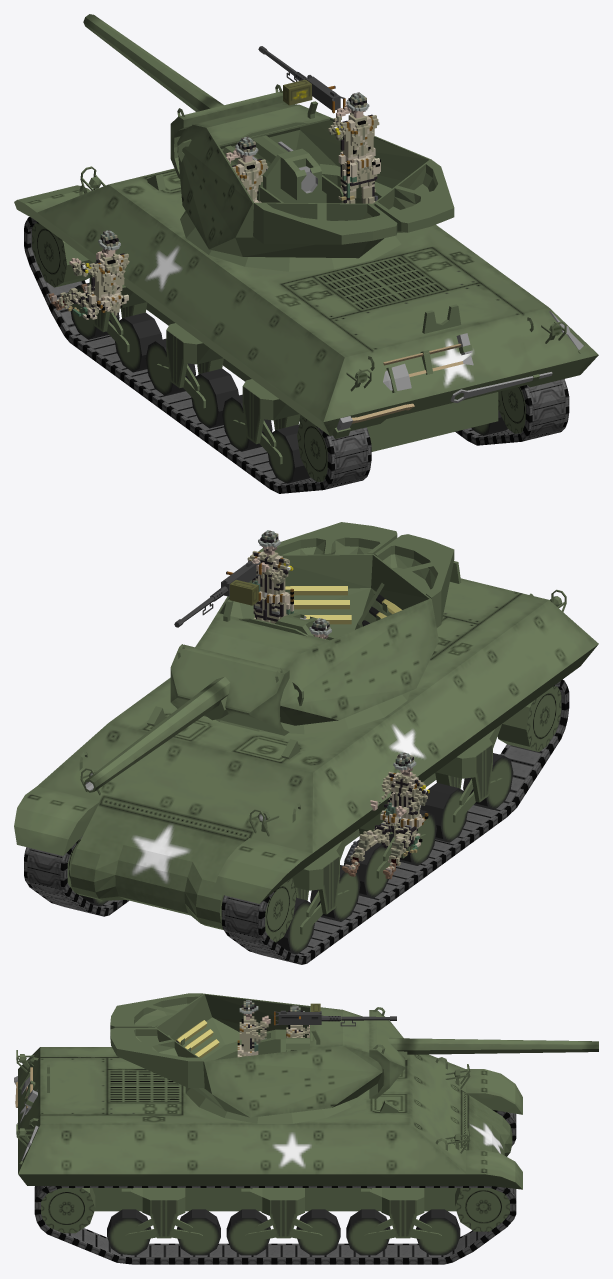
The picture shows the model from 3 angles, top to bottom: view 1: azimuth 30°, elevation 25°; view 2: azimuth 150°, elevation 25°; view 3: azimuth 270°, elevation 25°; orthographic projection. The views are drawn at different scales.
Parts seen in each view (by area): view 1: 00_chassis_m10_chassis.mesh, 03_turret_m10_turret.mesh, 06_track_m4_75_track.mesh, weapon_turret_0_m10_cannon.mesh, 05_track_m4_75_track.mesh, crew_soldier_SLOT_02_GUNNER, crew_soldier_SLOT_00_DRIVER, weapon_turret_1_willys_mb_mg.mesh, crew_soldier_SLOT_01_GUNNER; view 2: 00_chassis_m10_chassis.mesh, 03_turret_m10_turret.mesh, 06_track_m4_75_track.mesh, crew_soldier_SLOT_00_DRIVER, weapon_turret_0_m10_cannon.mesh, 05_track_m4_75_track.mesh, crew_soldier_SLOT_02_GUNNER, weapon_turret_1_willys_mb_mg.mesh; view 3: 00_chassis_m10_chassis.mesh, 03_turret_m10_turret.mesh, 05_track_m4_75_track.mesh, weapon_turret_0_m10_cannon.mesh, crew_soldier_SLOT_02_GUNNER, weapon_turret_1_willys_mb_mg.mesh.
Boxes of the visible parts, x1=… form: 00_chassis_m10_chassis.mesh: x1=14, y1=166, x2=598, y2=483; 03_turret_m10_turret.mesh: x1=170, y1=84, x2=454, y2=258; 06_track_m4_75_track.mesh: x1=24, y1=217, x2=371, y2=493; weapon_turret_0_m10_cannon.mesh: x1=83, y1=14, x2=321, y2=200; 05_track_m4_75_track.mesh: x1=455, y1=379, x2=569, y2=445; crew_soldier_SLOT_02_GUNNER: x1=328, y1=92, x2=380, y2=203; crew_soldier_SLOT_00_DRIVER: x1=48, y1=230, x2=129, y2=319; weapon_turret_1_willys_mb_mg.mesh: x1=258, y1=46, x2=345, y2=113; crew_soldier_SLOT_01_GUNNER: x1=226, y1=136, x2=268, y2=202; 00_chassis_m10_chassis.mesh: x1=14, y1=561, x2=598, y2=954; 03_turret_m10_turret.mesh: x1=170, y1=522, x2=454, y2=735; 06_track_m4_75_track.mesh: x1=221, y1=679, x2=569, y2=964; crew_soldier_SLOT_00_DRIVER: x1=342, y1=752, x2=429, y2=879; weapon_turret_0_m10_cannon.mesh: x1=83, y1=613, x2=317, y2=792; 05_track_m4_75_track.mesh: x1=24, y1=836, x2=128, y2=916; crew_soldier_SLOT_02_GUNNER: x1=247, y1=530, x2=293, y2=623; weapon_turret_1_willys_mb_mg.mesh: x1=174, y1=560, x2=261, y2=627; 00_chassis_m10_chassis.mesh: x1=14, y1=1047, x2=522, y2=1255; 03_turret_m10_turret.mesh: x1=110, y1=993, x2=407, y2=1117; 05_track_m4_75_track.mesh: x1=34, y1=1186, x2=516, y2=1264; weapon_turret_0_m10_cannon.mesh: x1=256, y1=1029, x2=598, y2=1054; crew_soldier_SLOT_02_GUNNER: x1=237, y1=1000, x2=270, y2=1057; weapon_turret_1_willys_mb_mg.mesh: x1=274, y1=1003, x2=396, y2=1026.
Bounding box in the file's own units: 4.23 × 3.88 × 8.78.
41 materials, 5 textured.
